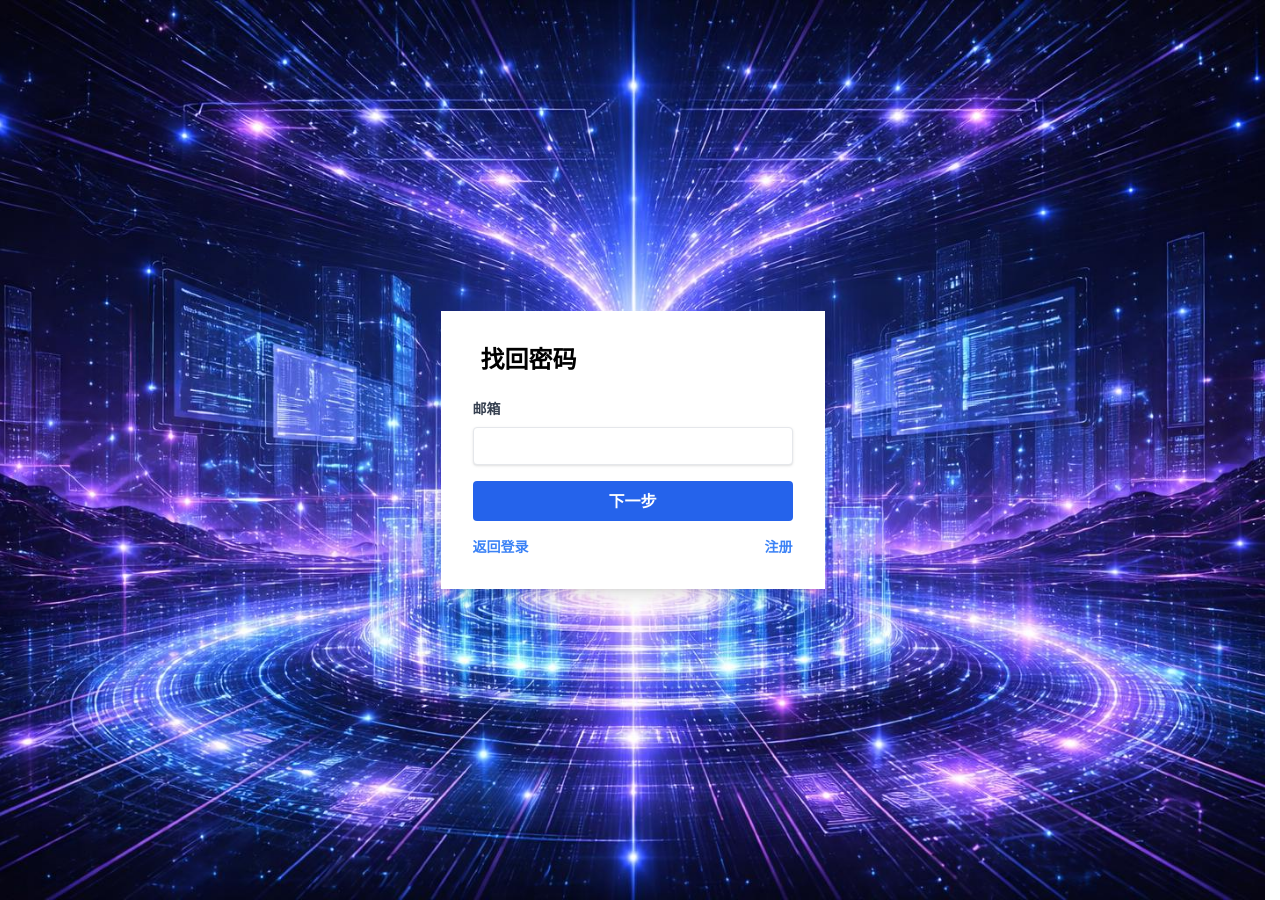
Scenario: ForgotPassword › shows error when status query fails
Type "a@example.com" into the field labelled "邮箱" at (632, 446), box [472, 427, 792, 465]
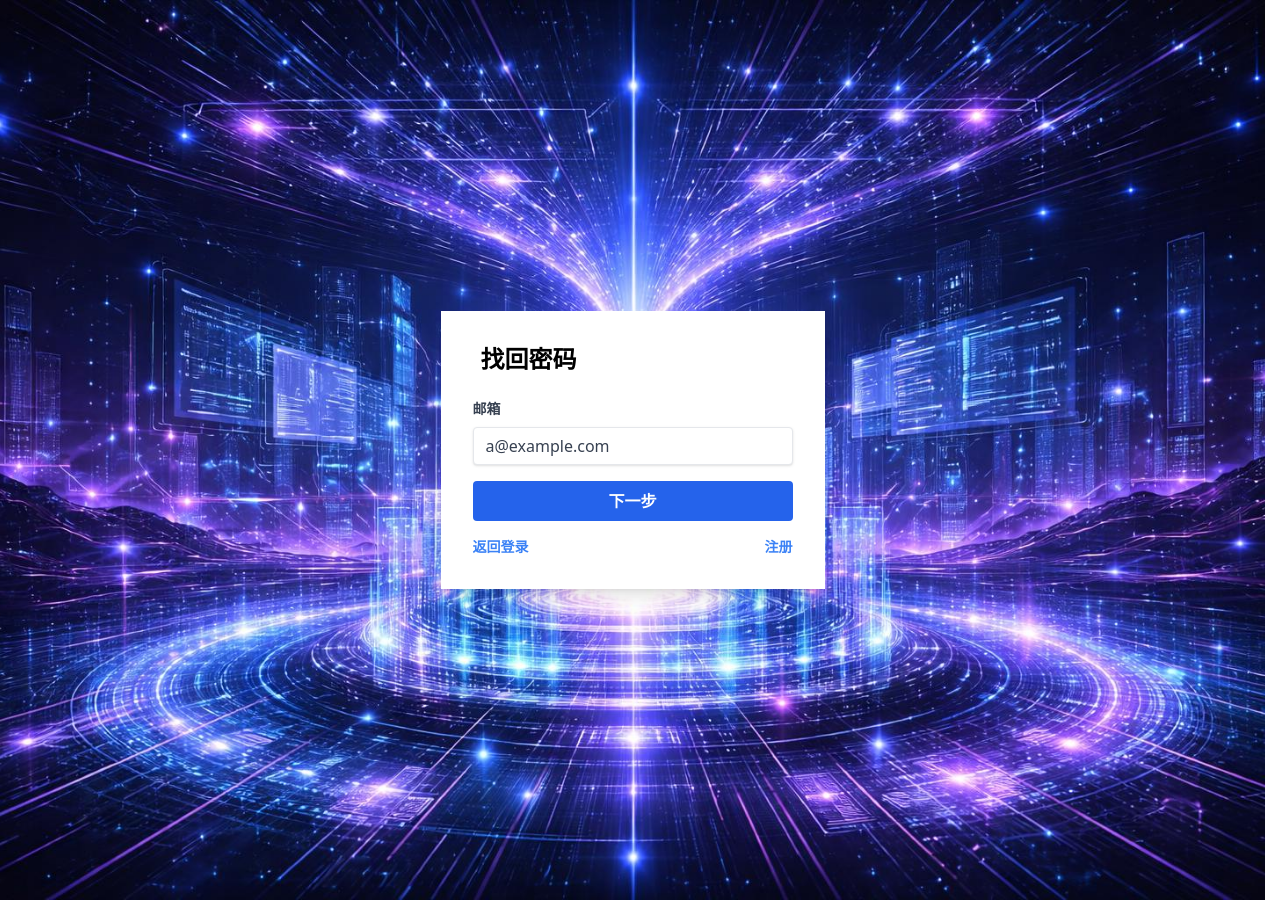
Click the button "下一步" at (632, 501), box [472, 481, 792, 521]
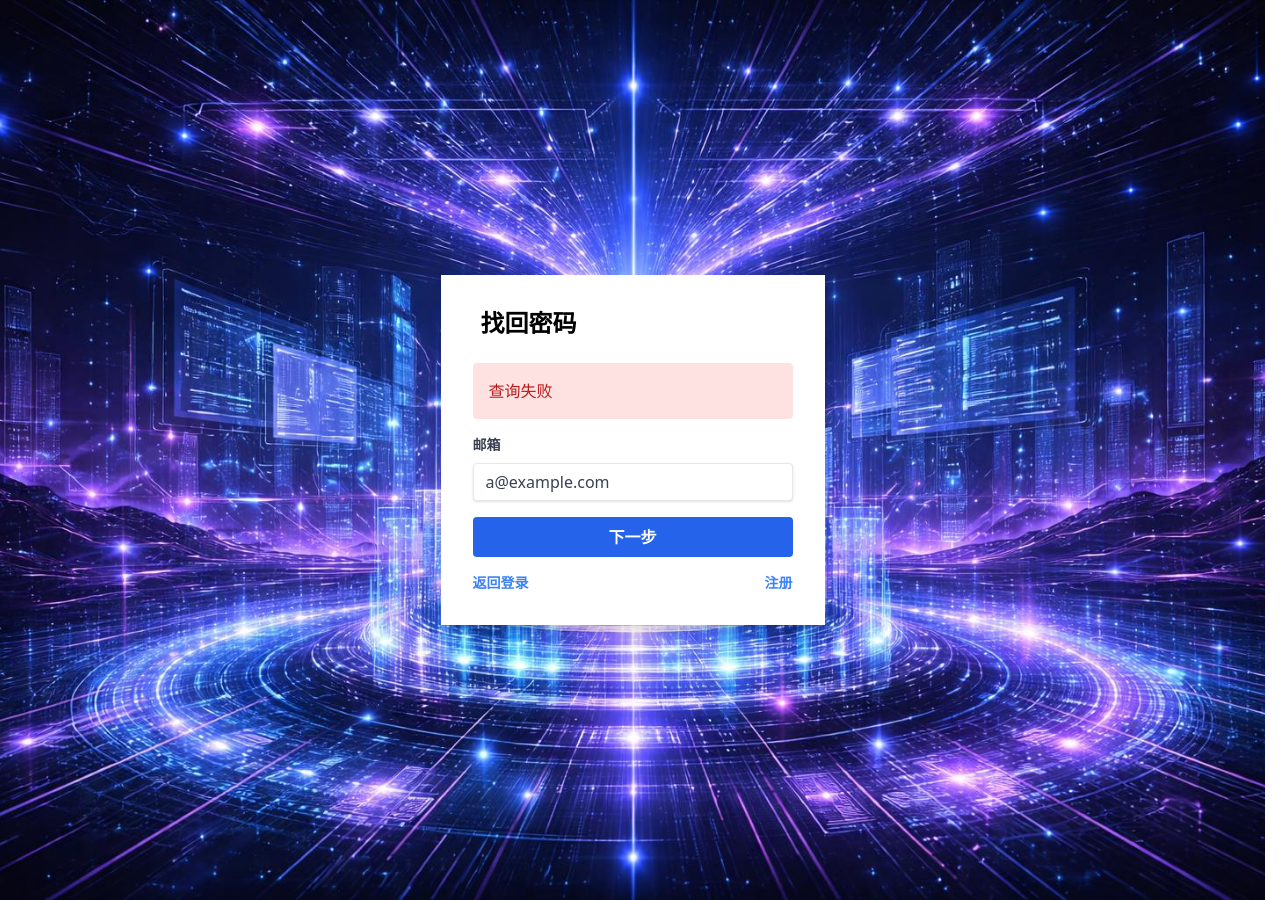
Expected: the text "查询失败" is shown, [472, 363, 792, 419]
